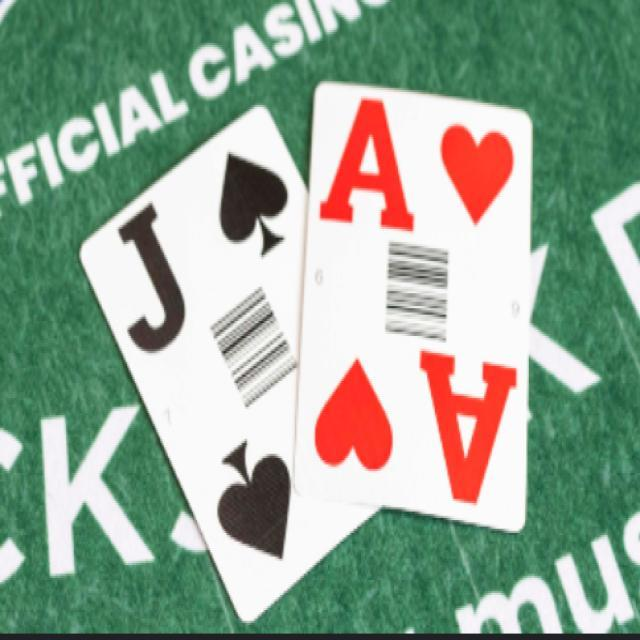Card-A: (299, 82, 529, 532)
Card-J: (79, 105, 379, 619)
